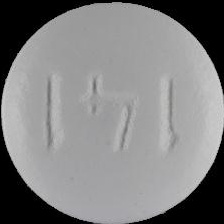63187-728: (0, 0, 224, 224)
